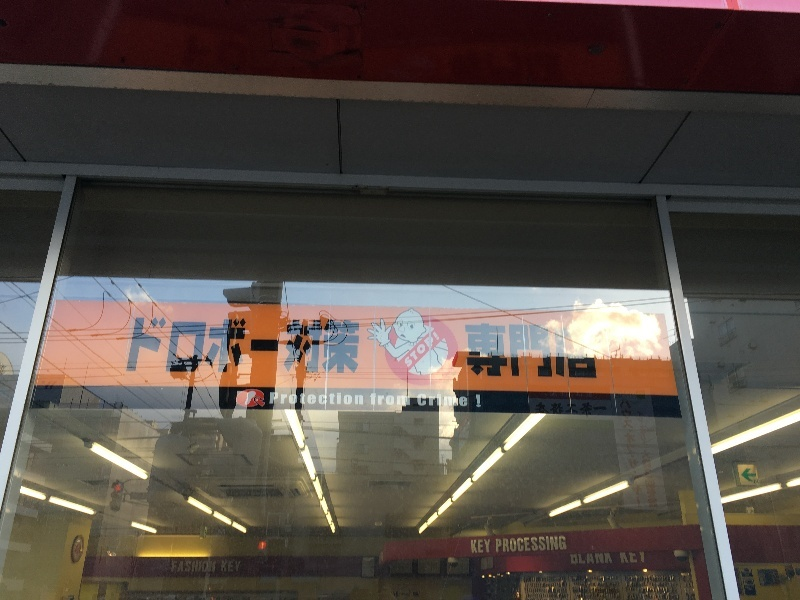text: (625, 401, 640, 507), (644, 412, 656, 508), (145, 317, 160, 375), (161, 317, 176, 375), (177, 317, 192, 375), (193, 317, 208, 375), (209, 317, 224, 375), (225, 317, 240, 375), (241, 317, 256, 375), (257, 317, 272, 375), (273, 317, 288, 375), (289, 317, 304, 375), (305, 317, 320, 375), (321, 317, 336, 375), (337, 317, 352, 375), (481, 325, 496, 380), (497, 325, 512, 380), (513, 325, 528, 380), (529, 325, 544, 380), (545, 325, 560, 380), (561, 325, 576, 380), (577, 325, 592, 380), (466, 325, 480, 380), (417, 332, 432, 368), (136, 317, 144, 375), (353, 317, 361, 375), (405, 332, 416, 368), (621, 401, 624, 507), (497, 536, 512, 553), (513, 536, 528, 553), (529, 536, 544, 553), (545, 536, 560, 553), (433, 332, 440, 368), (273, 391, 288, 406), (289, 391, 304, 406), (305, 391, 320, 406), (321, 391, 336, 406), (337, 391, 352, 406), (593, 325, 597, 380), (641, 401, 643, 507), (433, 395, 448, 409), (449, 395, 464, 409), (465, 395, 480, 409), (418, 395, 432, 409), (545, 403, 560, 416), (561, 403, 576, 416), (577, 403, 592, 416), (593, 403, 608, 416), (577, 553, 592, 566), (593, 553, 608, 566), (657, 412, 659, 508), (385, 394, 400, 406), (625, 552, 640, 564), (177, 561, 192, 573), (193, 561, 208, 573), (225, 562, 241, 573), (353, 391, 364, 406), (371, 394, 384, 406), (481, 540, 491, 553), (561, 389, 576, 397), (577, 389, 592, 397), (471, 540, 480, 553), (536, 403, 544, 416), (561, 536, 567, 553), (401, 394, 409, 406), (209, 561, 216, 573), (550, 389, 560, 397), (570, 553, 576, 566), (609, 553, 613, 566), (620, 552, 624, 564), (641, 552, 645, 564), (173, 561, 176, 573), (481, 395, 483, 409), (222, 562, 224, 573), (271, 391, 272, 406), (593, 389, 594, 397)
